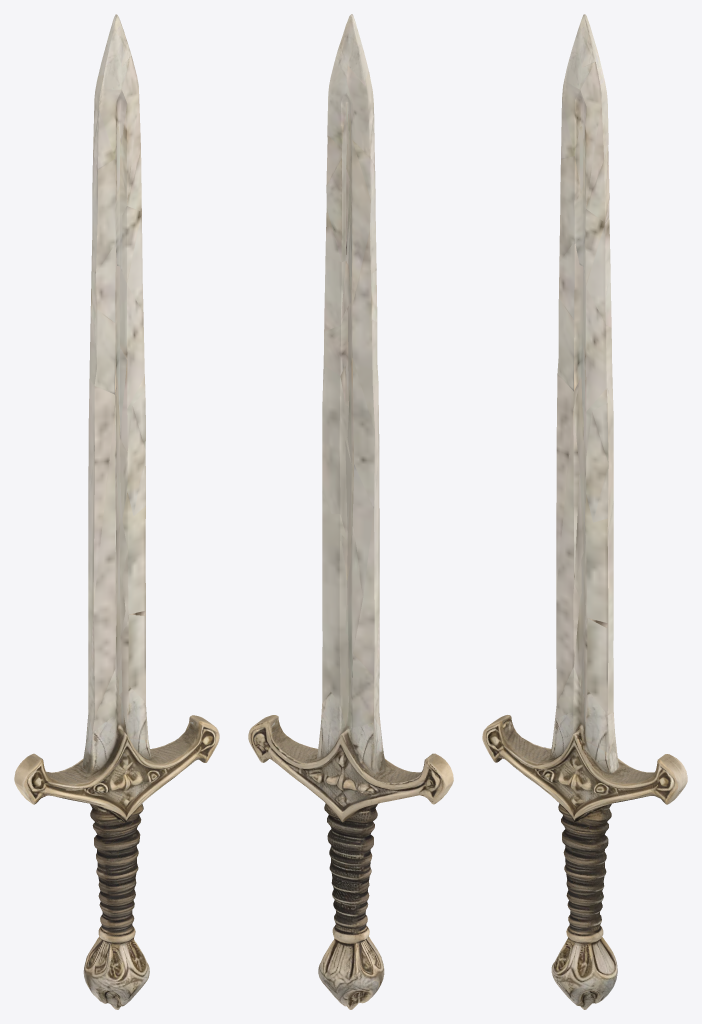
File: sword-white.glb
3 views of the same model, side by side, from view 1: azimuth 30°, elevation 25°; view 2: azimuth 150°, elevation 25°; view 3: azimuth 330°, elevation 25° (orthographic).
Parts seen in each view (by area): view 1: Sword; view 2: Sword; view 3: Sword.
Part boxes in pixels (bbox=[...]): Sword: bbox=[14, 14, 219, 1009]; Sword: bbox=[248, 14, 453, 1009]; Sword: bbox=[482, 14, 687, 1009].
Size of the model in its own units: 0.1771 by 0.85 by 0.0513.
Materials: 1 (1 with a texture image).
